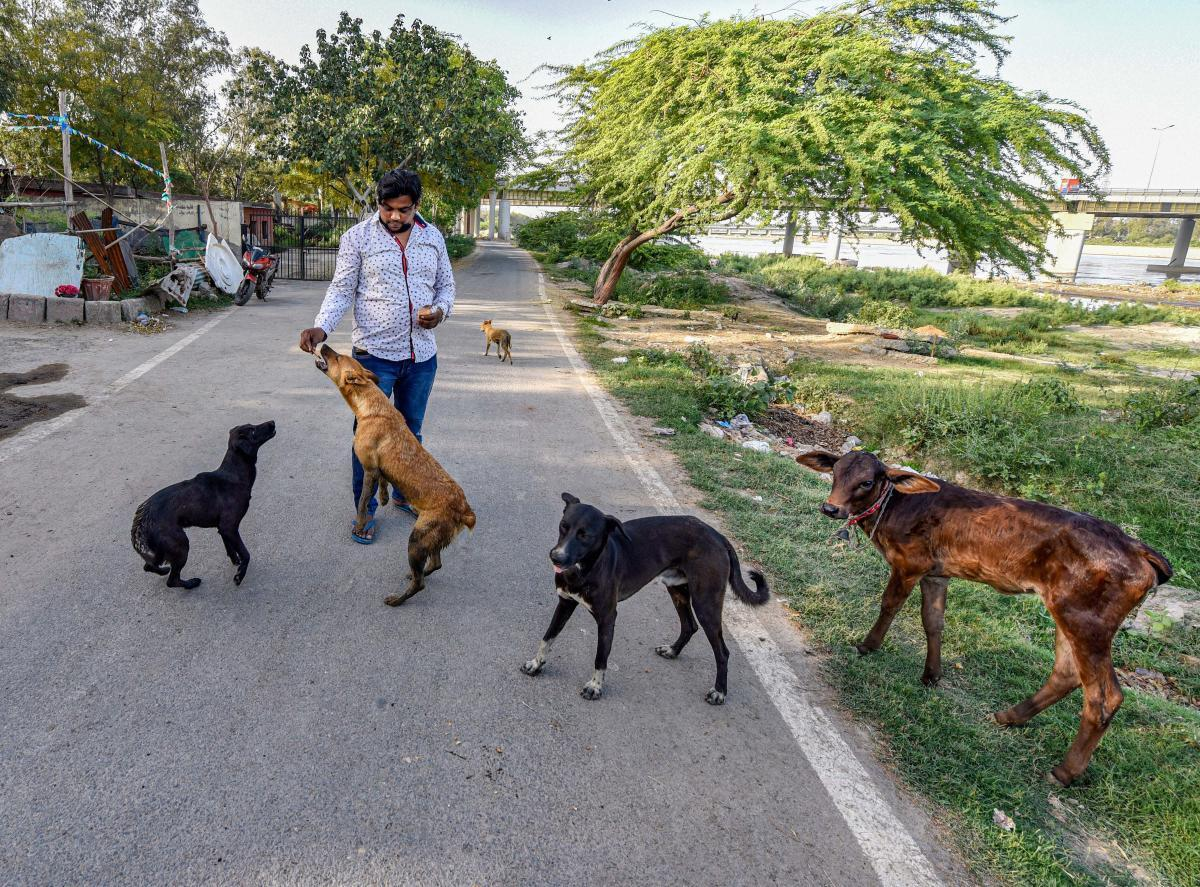dog_aggressive: (302, 331, 484, 616)
normal_dogs: (515, 483, 774, 712), (106, 418, 292, 600), (476, 312, 518, 364)
